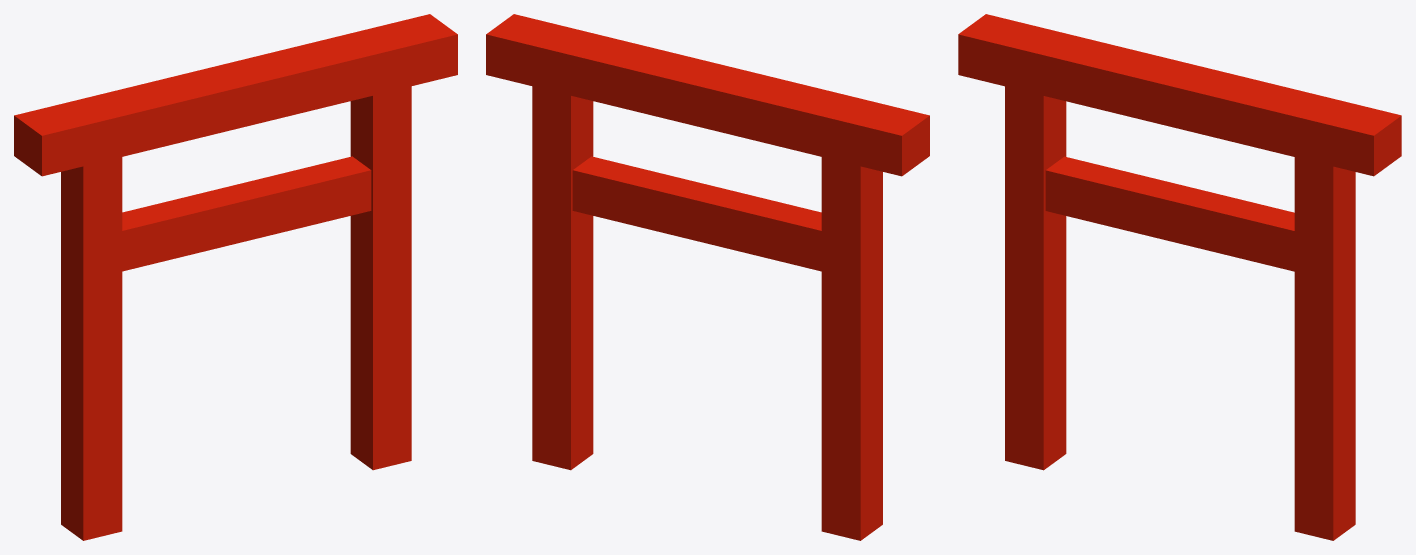
3 renders of one model, left to right at view 1: azimuth 30°, elevation 25°; view 2: azimuth 150°, elevation 25°; view 3: azimuth 330°, elevation 25°, orthographic.
Visible parts, largest first — view 1: 立方体.003, 立方体, 立方体.001, 立方体.002; view 2: 立方体.003, 立方体, 立方体.001, 立方体.002; view 3: 立方体.003, 立方体.001, 立方体, 立方体.002.
Boxes of the visible parts, x1,y1,x2,y2 form: 立方体.003: (14,14,457,176); 立方体: (61,157,122,540); 立方体.001: (350,86,411,470); 立方体.002: (122,156,371,271); 立方体.003: (486,14,929,176); 立方体: (821,157,882,540); 立方体.001: (532,86,593,470); 立方体.002: (572,156,821,271); 立方体.003: (958,14,1401,176); 立方体.001: (1294,157,1355,540); 立方体: (1005,86,1066,470); 立方体.002: (1045,156,1294,271).
Bounding box in the file's own units: 1010 × 970 × 117.
